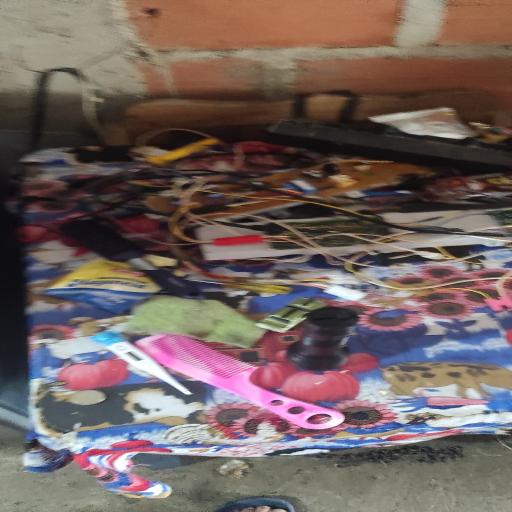Carrito: (256, 298, 324, 333)
